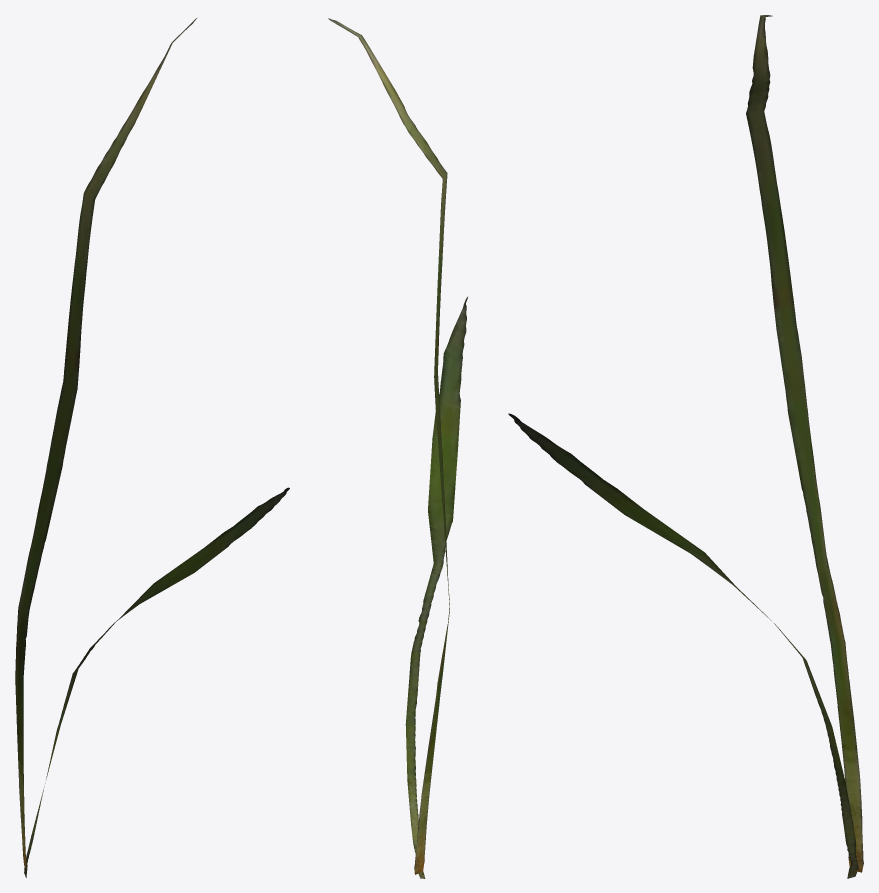
File: grass-medium-01-tiny-c.glb
3 renders of one model, left to right at view 1: azimuth 30°, elevation 25°; view 2: azimuth 150°, elevation 25°; view 3: azimuth 270°, elevation 25°, orthographic. The views are drawn at different scales.
Parts seen in each view (by area): view 1: grass_medium_01_tiny_c; view 2: grass_medium_01_tiny_c; view 3: grass_medium_01_tiny_c.
Boxes of the visible parts, x1=… form: grass_medium_01_tiny_c: x1=15, y1=18, x2=289, y2=877; grass_medium_01_tiny_c: x1=328, y1=18, x2=467, y2=878; grass_medium_01_tiny_c: x1=508, y1=15, x2=863, y2=878.
Size of the model in its own units: 0.016 by 0.0824 by 0.029.
1 material, 1 textured.
